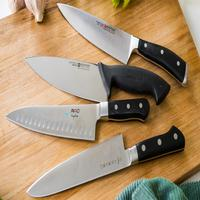knife: (19, 127, 195, 196), (54, 2, 188, 75), (20, 48, 170, 99), (3, 102, 150, 136)
